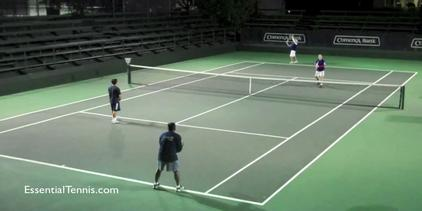stay: (106, 68, 122, 130)
walk: (152, 111, 188, 199), (106, 68, 122, 130), (284, 39, 299, 69), (315, 56, 327, 83)
